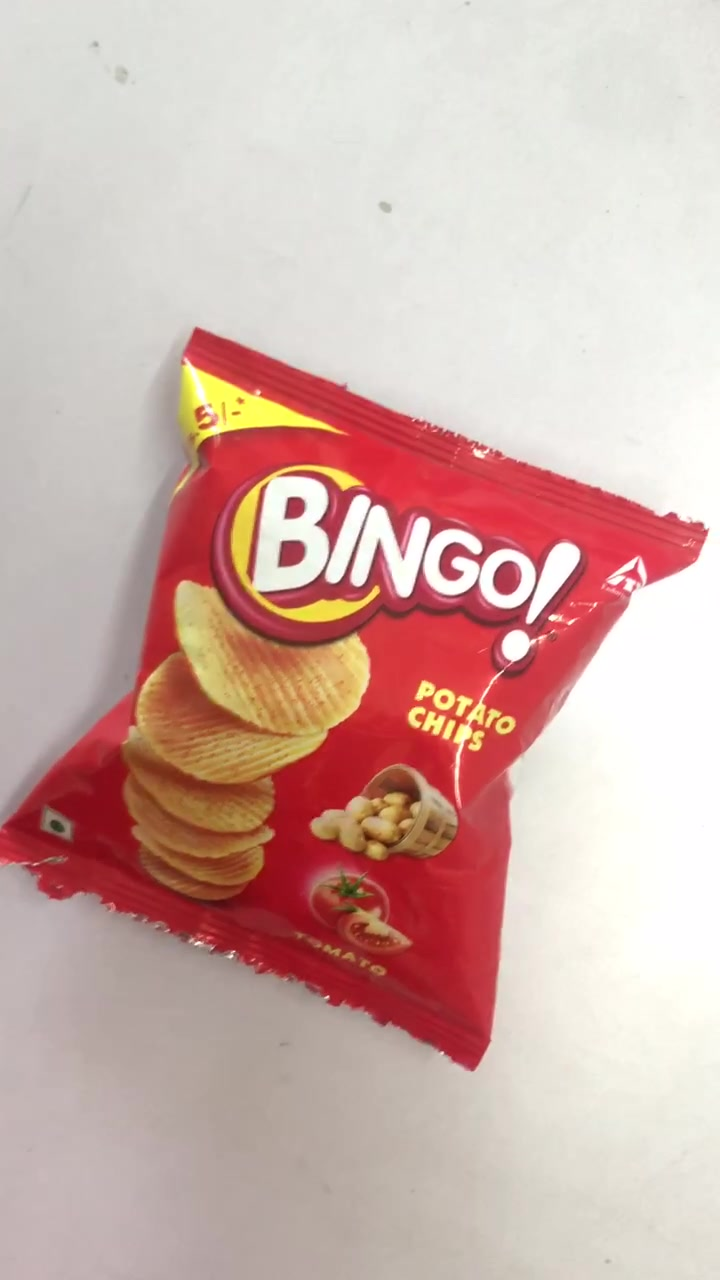Bingo: (13, 332, 709, 1074)
